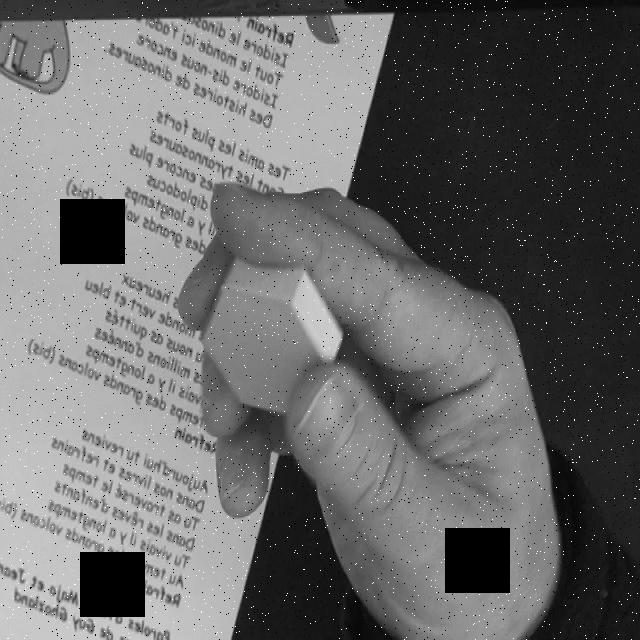hexagon: (201, 260, 342, 418)
